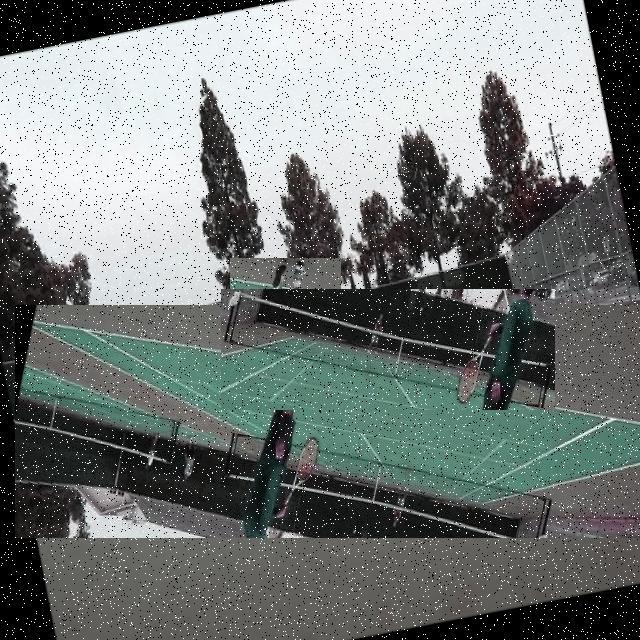court: (15, 305, 640, 538)
net: (221, 289, 555, 412)
player: (230, 258, 341, 511)
